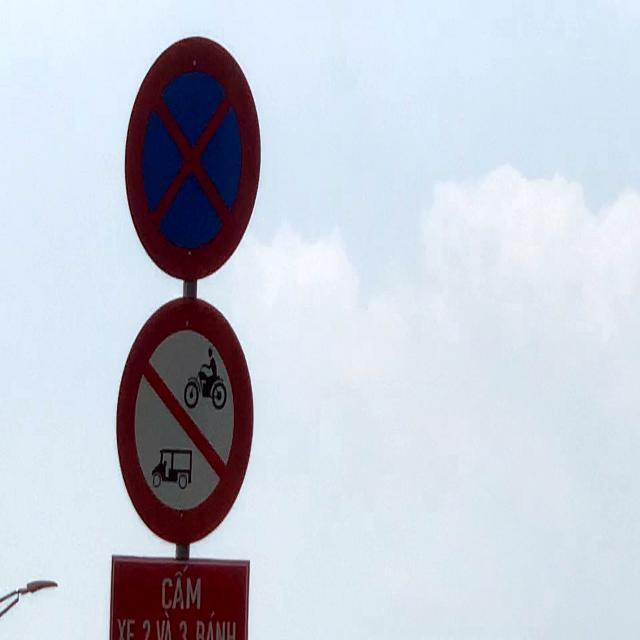130-cam-dung-va-do-xe: (121, 38, 262, 278)
